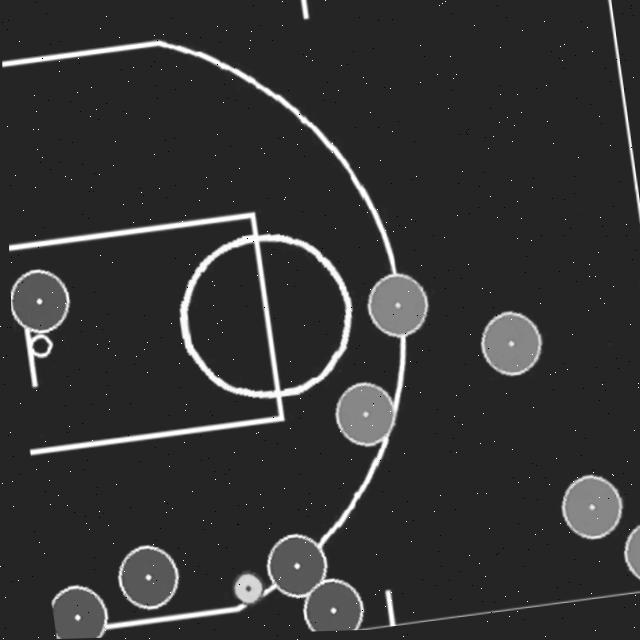Basketball: (227, 572, 259, 607)
Team_A: (112, 546, 173, 610), (261, 536, 321, 599), (8, 270, 66, 334), (297, 581, 357, 633), (46, 585, 102, 639)
Team_B: (331, 384, 392, 449), (477, 314, 538, 379), (364, 276, 425, 340), (556, 479, 617, 543), (618, 526, 640, 587)
